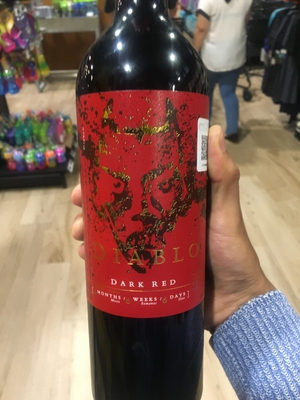diablo dark red: (66, 18, 233, 399)
